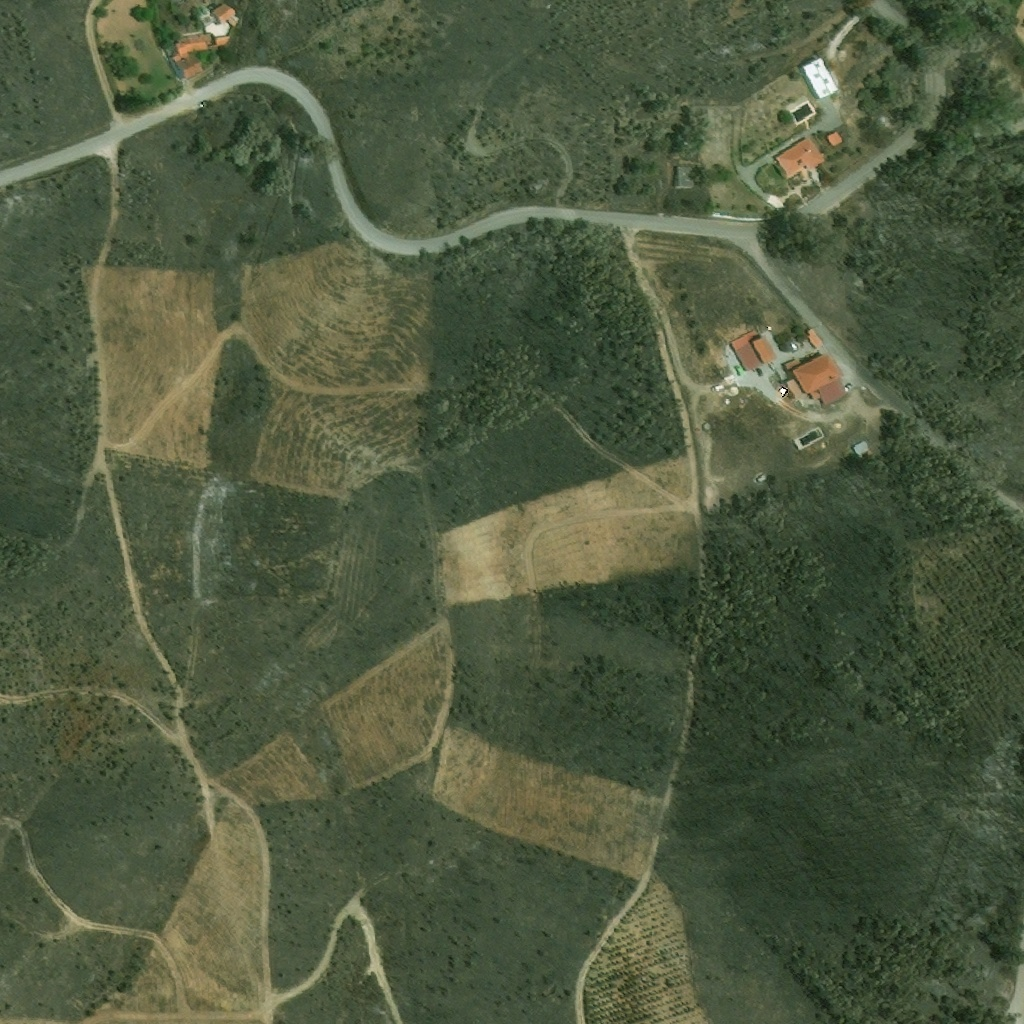0 no-damage: (780, 351, 848, 405), (171, 21, 233, 60), (774, 133, 827, 178), (729, 329, 777, 373), (797, 58, 838, 99), (212, 0, 236, 22), (673, 165, 695, 188), (805, 327, 824, 349), (851, 439, 871, 459)
